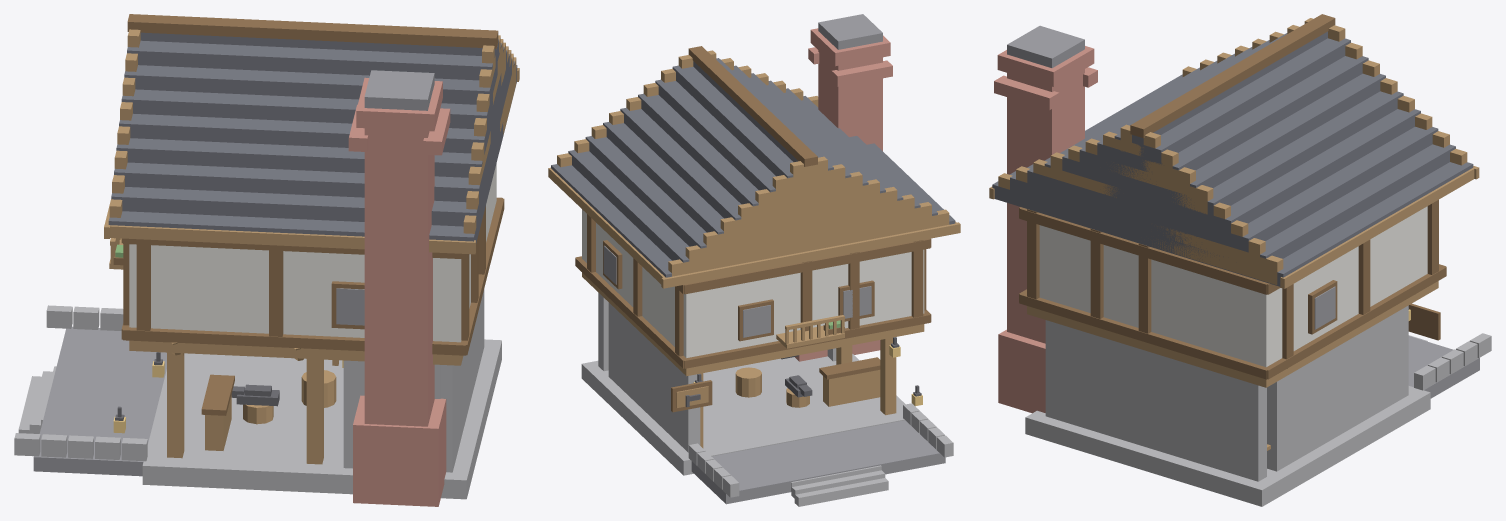
File: Smithy.fbx
The picture shows the model from 3 angles, left to right: view 1: azimuth 30°, elevation 25°; view 2: azimuth 150°, elevation 25°; view 3: azimuth 270°, elevation 25°; orthographic projection. The views are drawn at different scales.
Visible parts, largest first — view 1: Smithy; view 2: Smithy; view 3: Smithy.
Boxes of the visible parts, <box> form: Smithy: <box>14,14,519,506</box>; Smithy: <box>548,14,960,506</box>; Smithy: <box>989,14,1491,506</box>.
Size of what is drawn, in the model's own units: 15.86 by 12.52 by 15.26.
